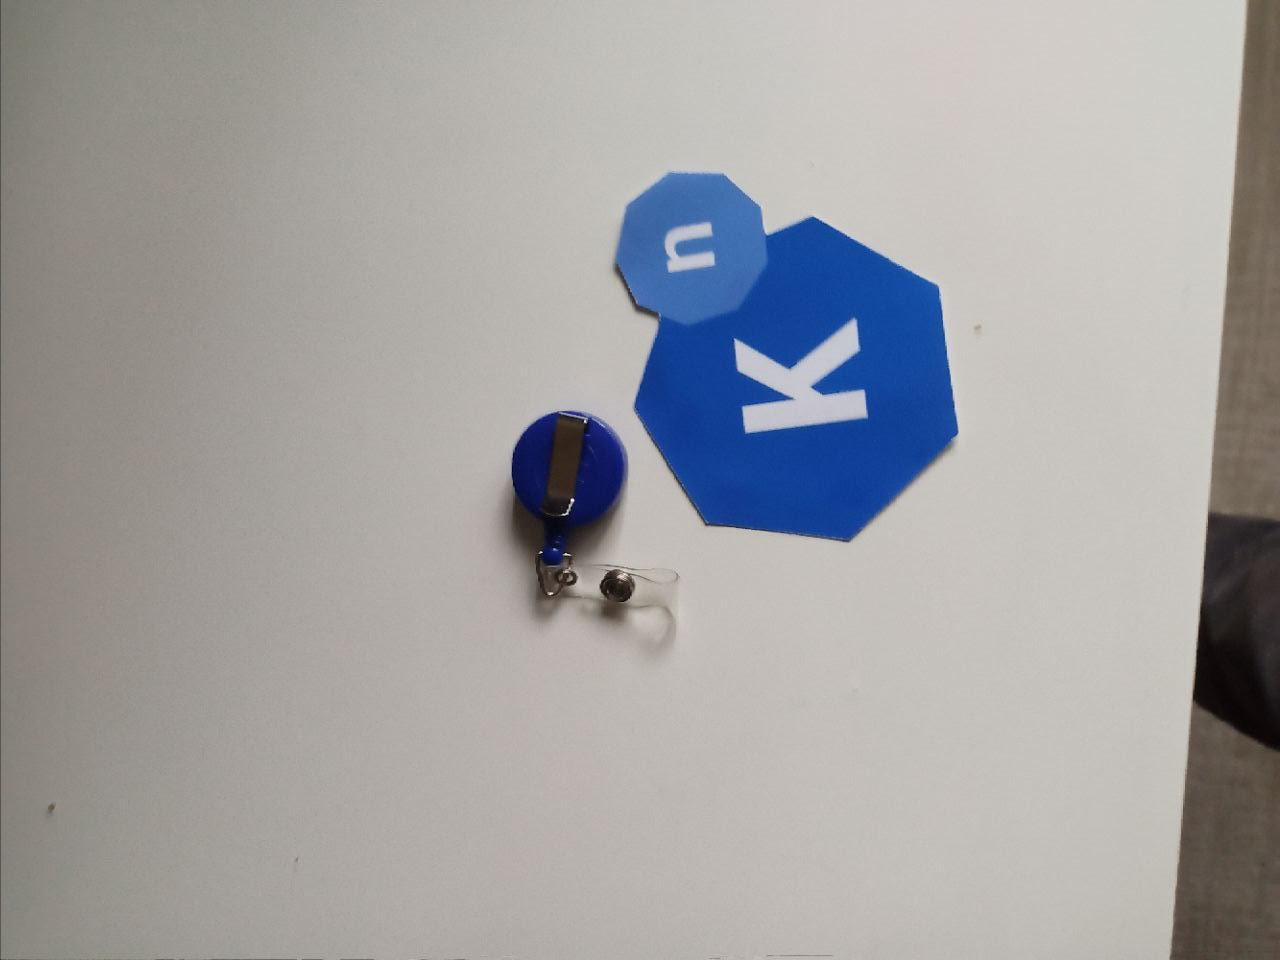knative: (616, 169, 962, 544)
